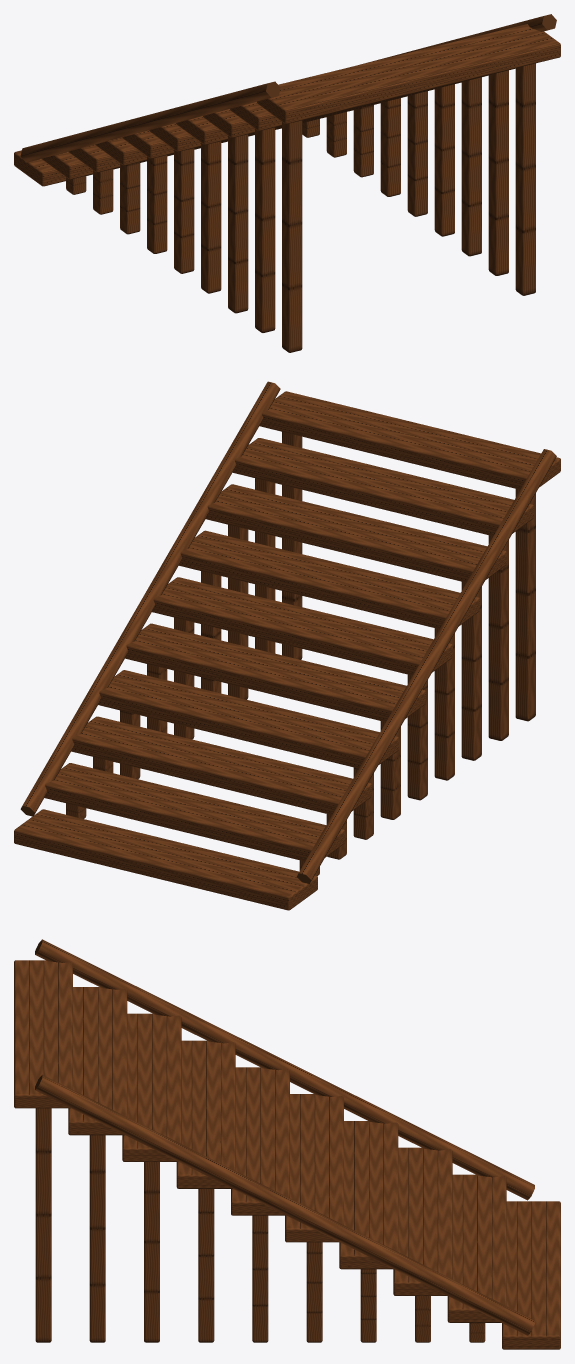
The model's file is creature-husbandry-and-transport-loading-ramp-2a3befb1__24028.glb.
The picture shows the model from 3 angles, top to bottom: view 1: azimuth 30°, elevation 25°; view 2: azimuth 150°, elevation 25°; view 3: azimuth 270°, elevation 25°; orthographic projection.
Parts seen in each view (by area): view 1: loading-ramp; view 2: loading-ramp; view 3: loading-ramp.
Boxes of the visible parts, x1,y1,x2,y2 form: loading-ramp: [14, 14, 560, 352]; loading-ramp: [14, 381, 560, 910]; loading-ramp: [14, 939, 560, 1349].
Size of the model in its own units: 1.37 by 1.23 by 2.22.
1 material, 1 textured.
